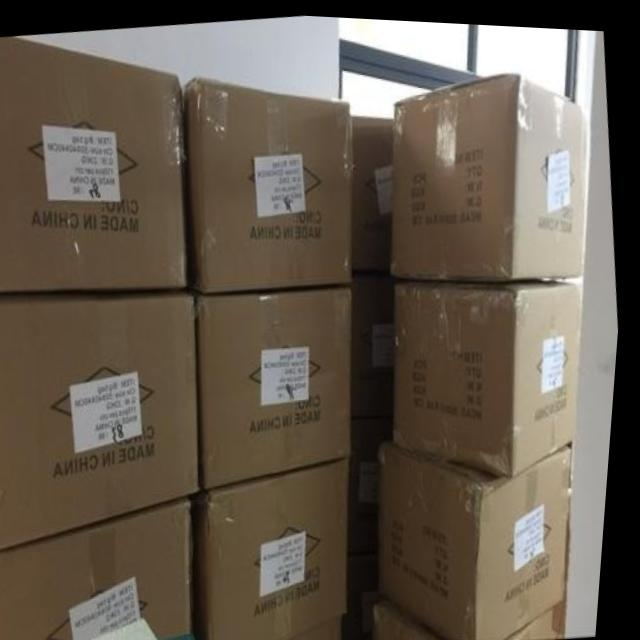box: (0, 284, 207, 551), (0, 36, 191, 293), (394, 66, 585, 275), (387, 435, 581, 639), (182, 75, 356, 291), (399, 273, 586, 471), (191, 281, 357, 487), (198, 451, 357, 640), (0, 492, 202, 640), (351, 112, 395, 266), (355, 271, 400, 412), (355, 412, 399, 551), (351, 548, 393, 636), (382, 595, 464, 640), (513, 594, 575, 637), (92, 613, 171, 640), (286, 610, 353, 640)
